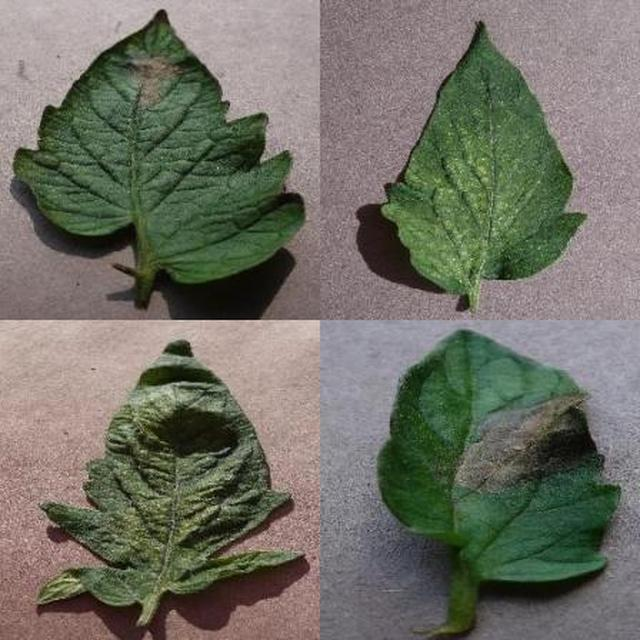Late Blight Leaf: (227, 205, 640, 640)
